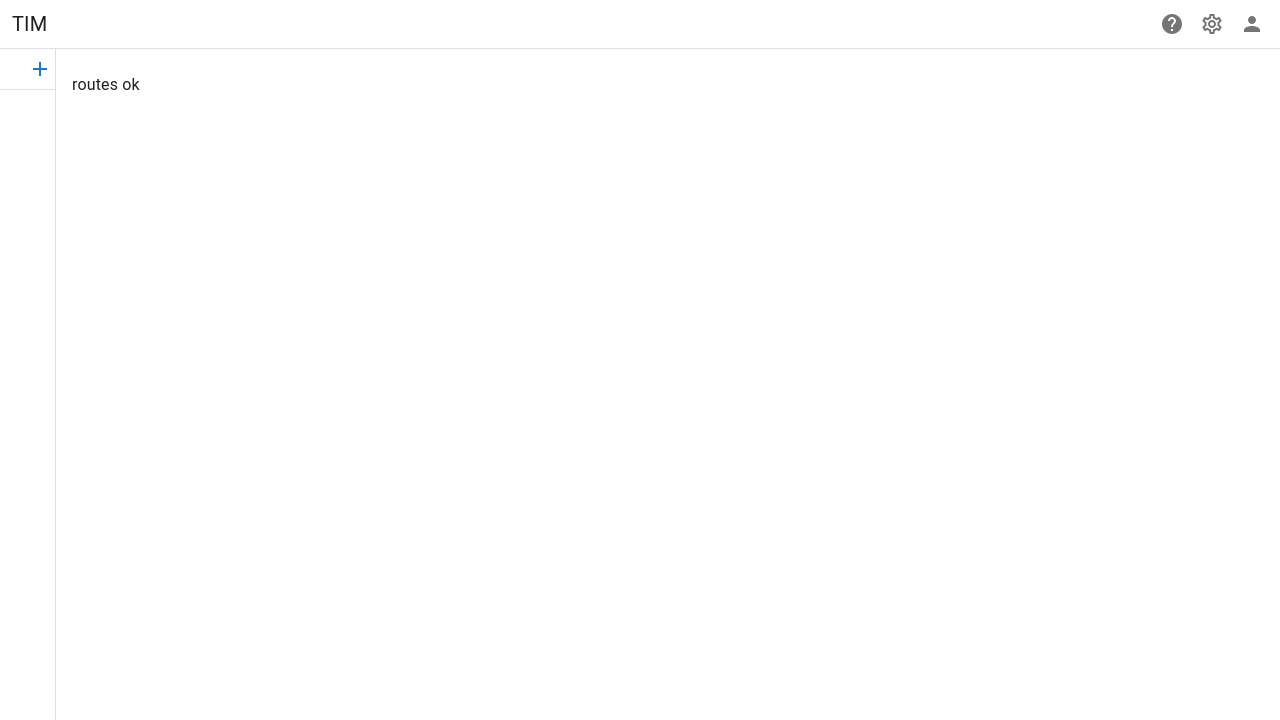
AppShell / AuthGate › signed in: renders routes and the account name
The image size is (1280, 720).
Expected: the text "routes ok" is shown, [72,75,140,94]
What coordinates should you click on to do the following:
click the button named "Account"
I would click on:
 (1252, 24)
Its box is [1232,4,1272,44].
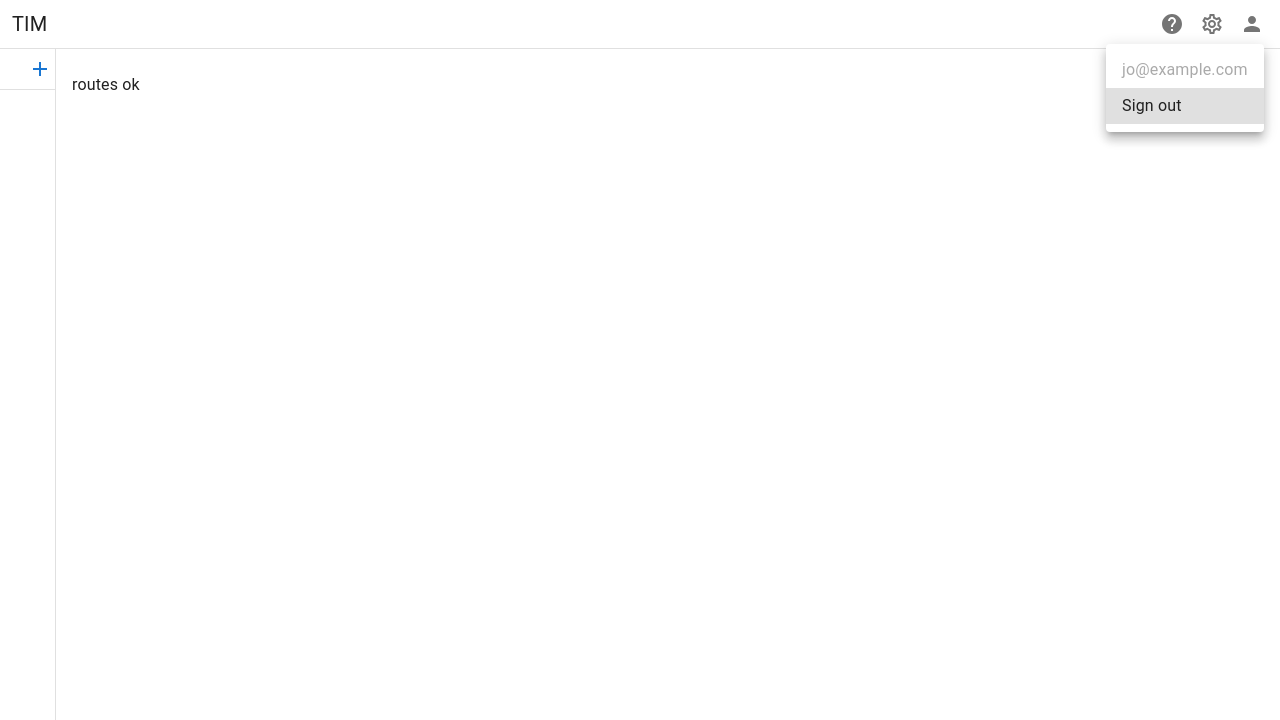
Expected: the menu item "jo@example.com" is shown, [1122,60,1248,79]
